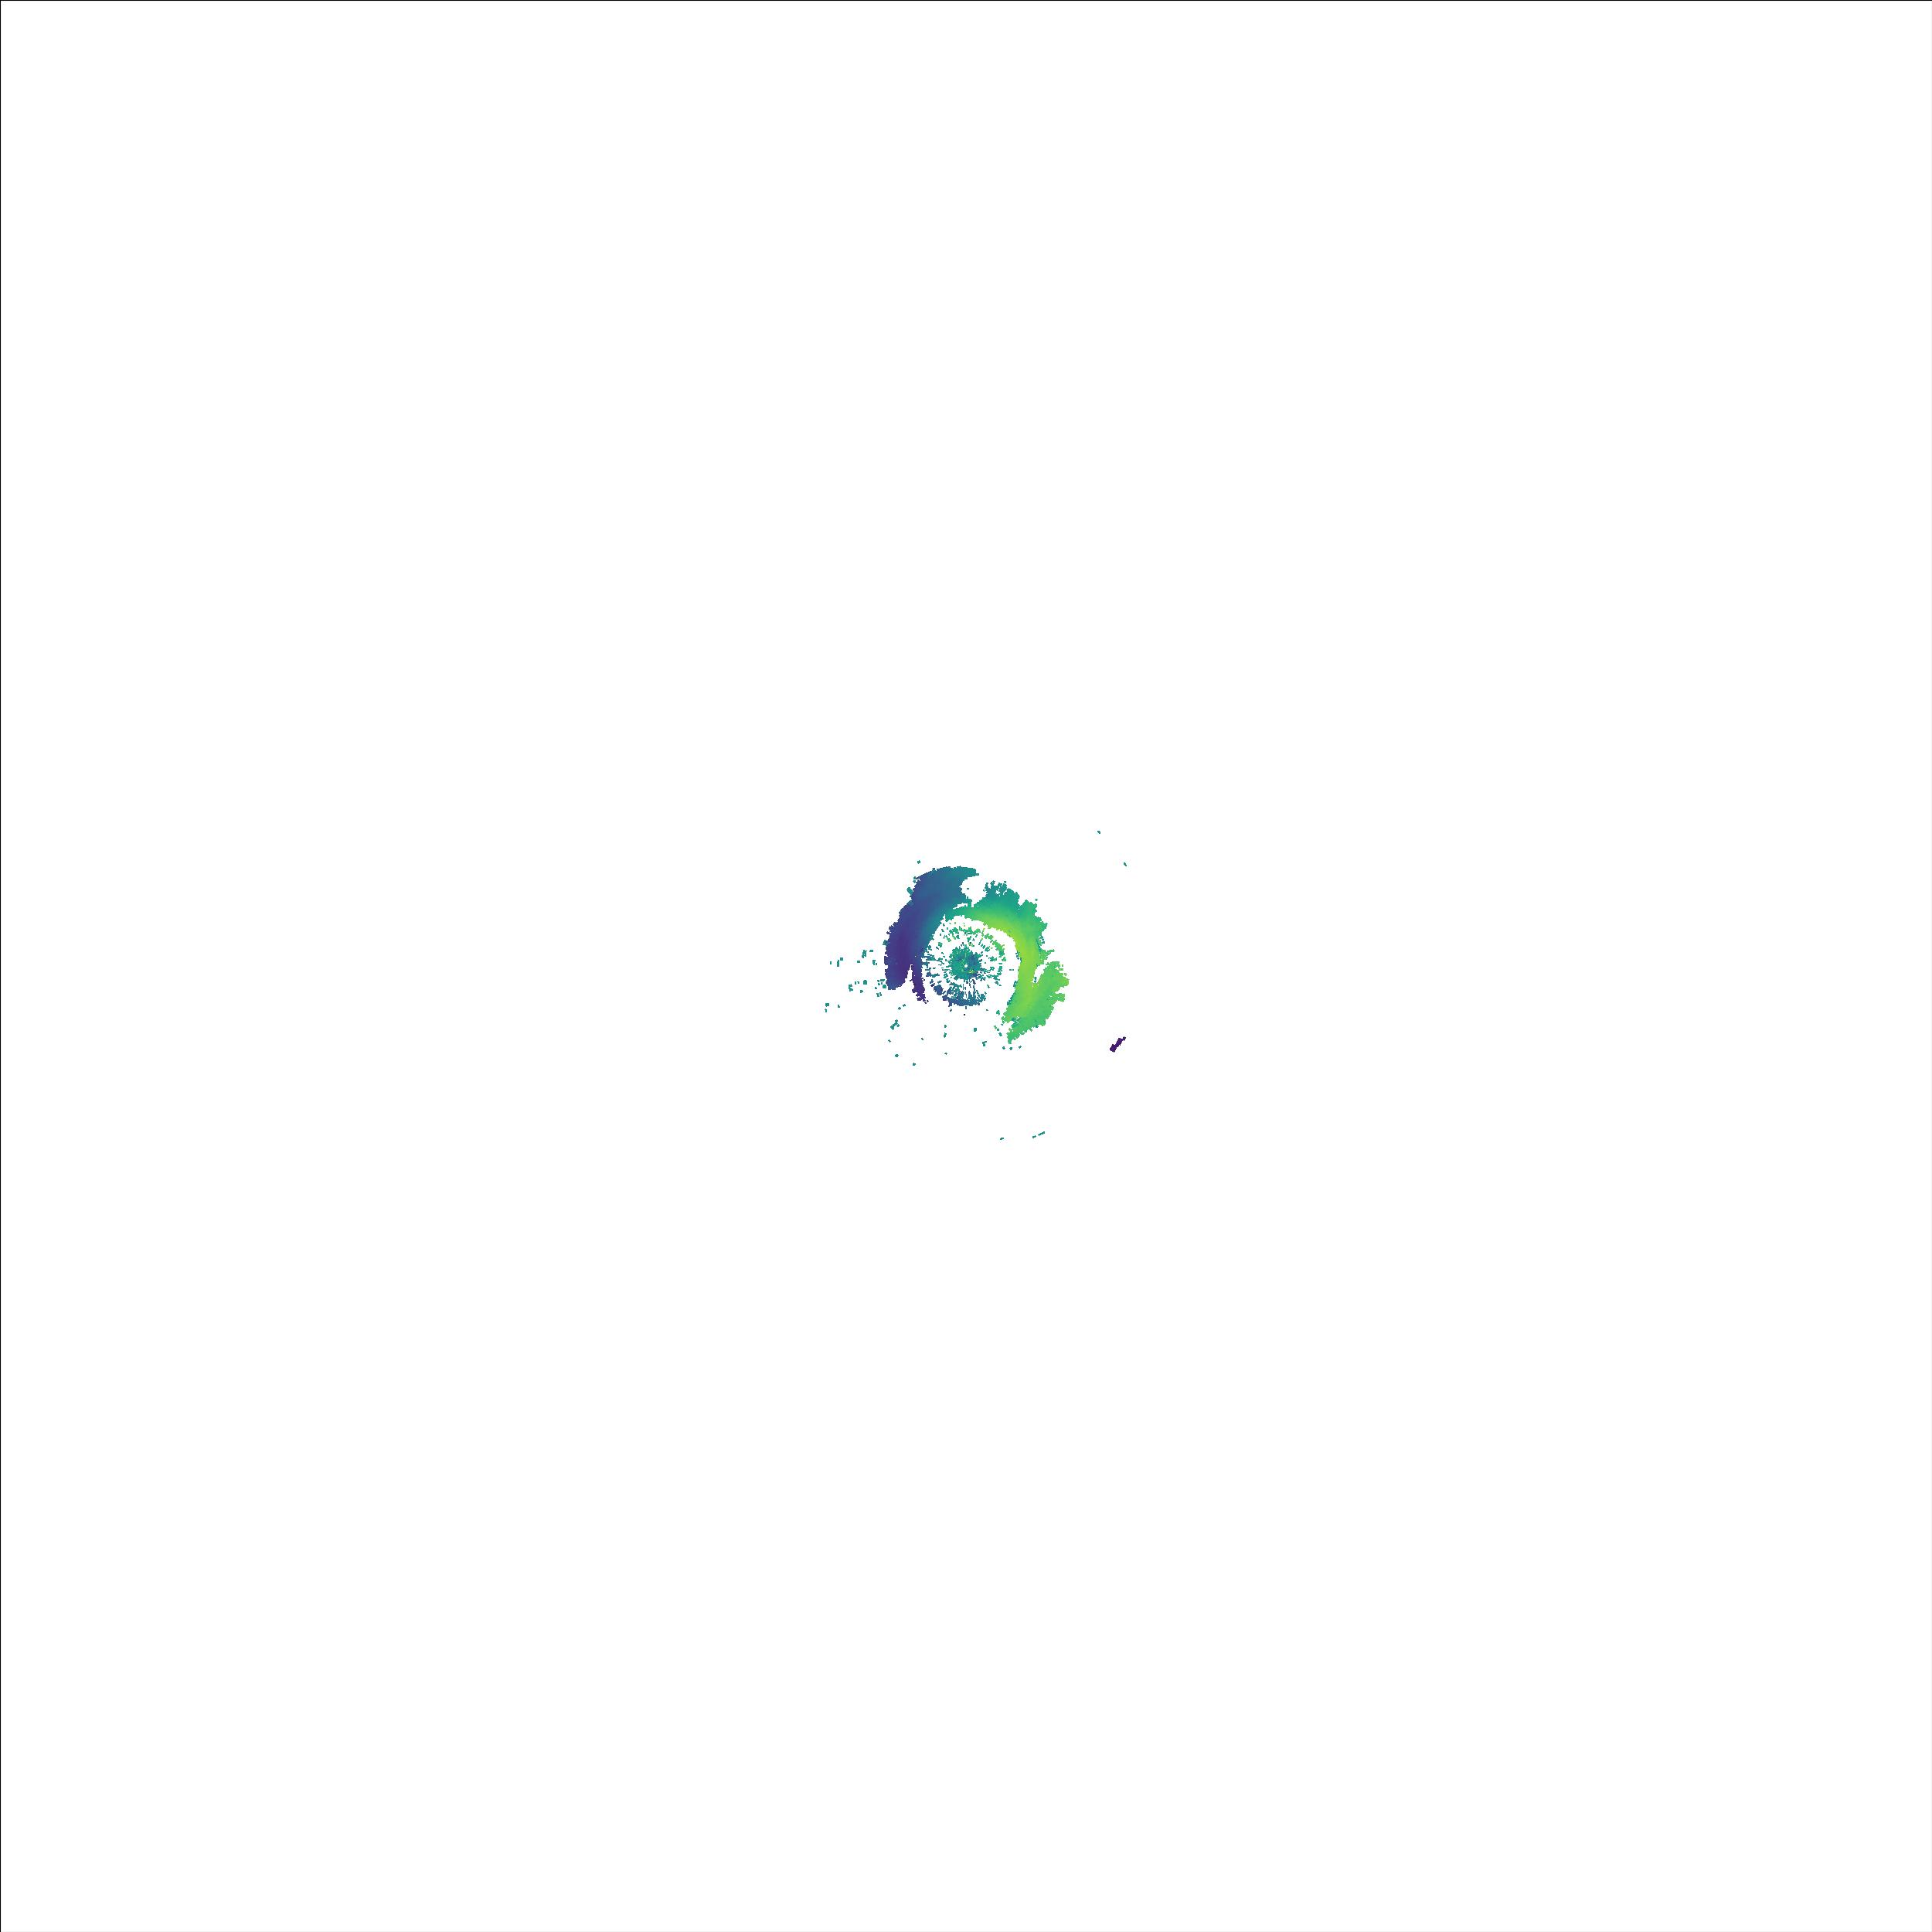fall: (1106, 1033, 1129, 1054)
